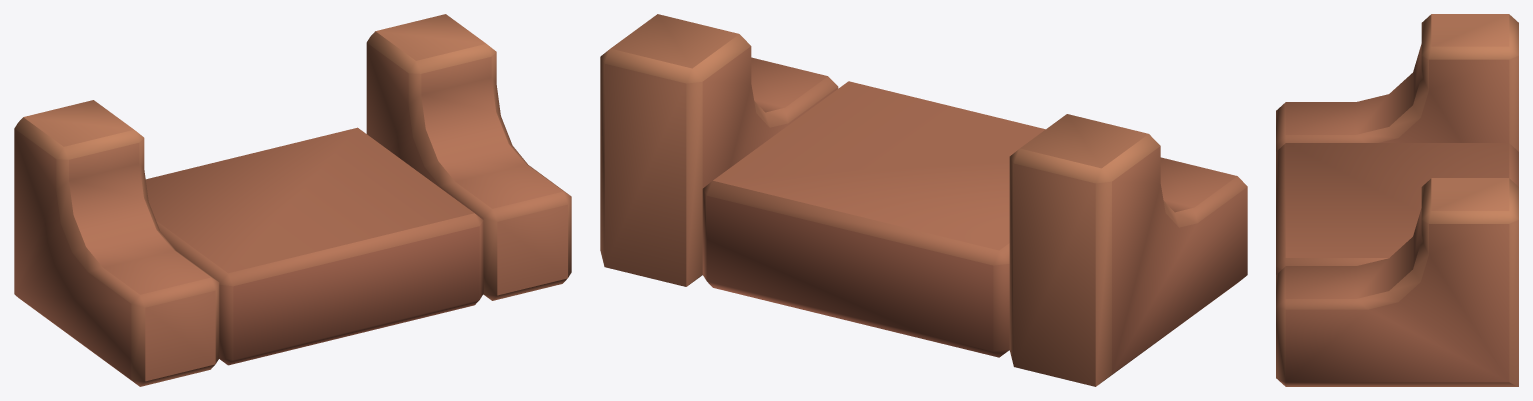
File: shelf-b-small.glb
The picture shows the model from 3 angles, left to right: view 1: azimuth 30°, elevation 25°; view 2: azimuth 150°, elevation 25°; view 3: azimuth 270°, elevation 25°; orthographic projection. The views are drawn at different scales.
Parts seen in each view (by area): view 1: shelf_B_small; view 2: shelf_B_small; view 3: shelf_B_small.
Part boxes in pixels (x1,y1,x2,y2): shelf_B_small: (14, 14, 571, 386); shelf_B_small: (600, 14, 1247, 386); shelf_B_small: (1276, 14, 1518, 386).
Size of the model in its own units: 1 by 0.4 by 0.5.
